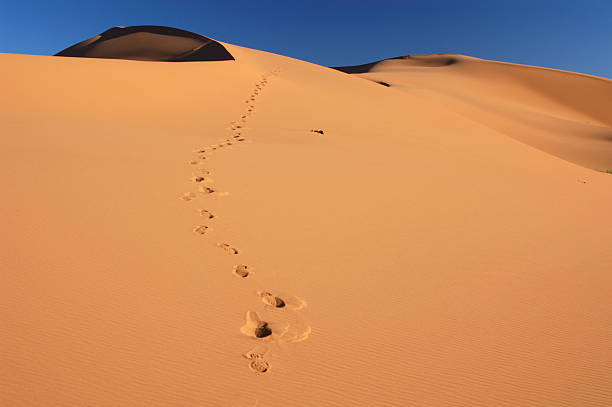animal_foot_print: (240, 311, 272, 337), (243, 344, 269, 372), (257, 291, 285, 307), (242, 344, 267, 359), (200, 185, 228, 196), (249, 359, 269, 373), (233, 264, 252, 277), (217, 243, 238, 254), (193, 225, 210, 234), (200, 209, 214, 218), (181, 192, 196, 200), (200, 186, 215, 193), (192, 175, 205, 182), (198, 168, 210, 174), (310, 129, 323, 134), (193, 148, 206, 153), (189, 160, 199, 164)
